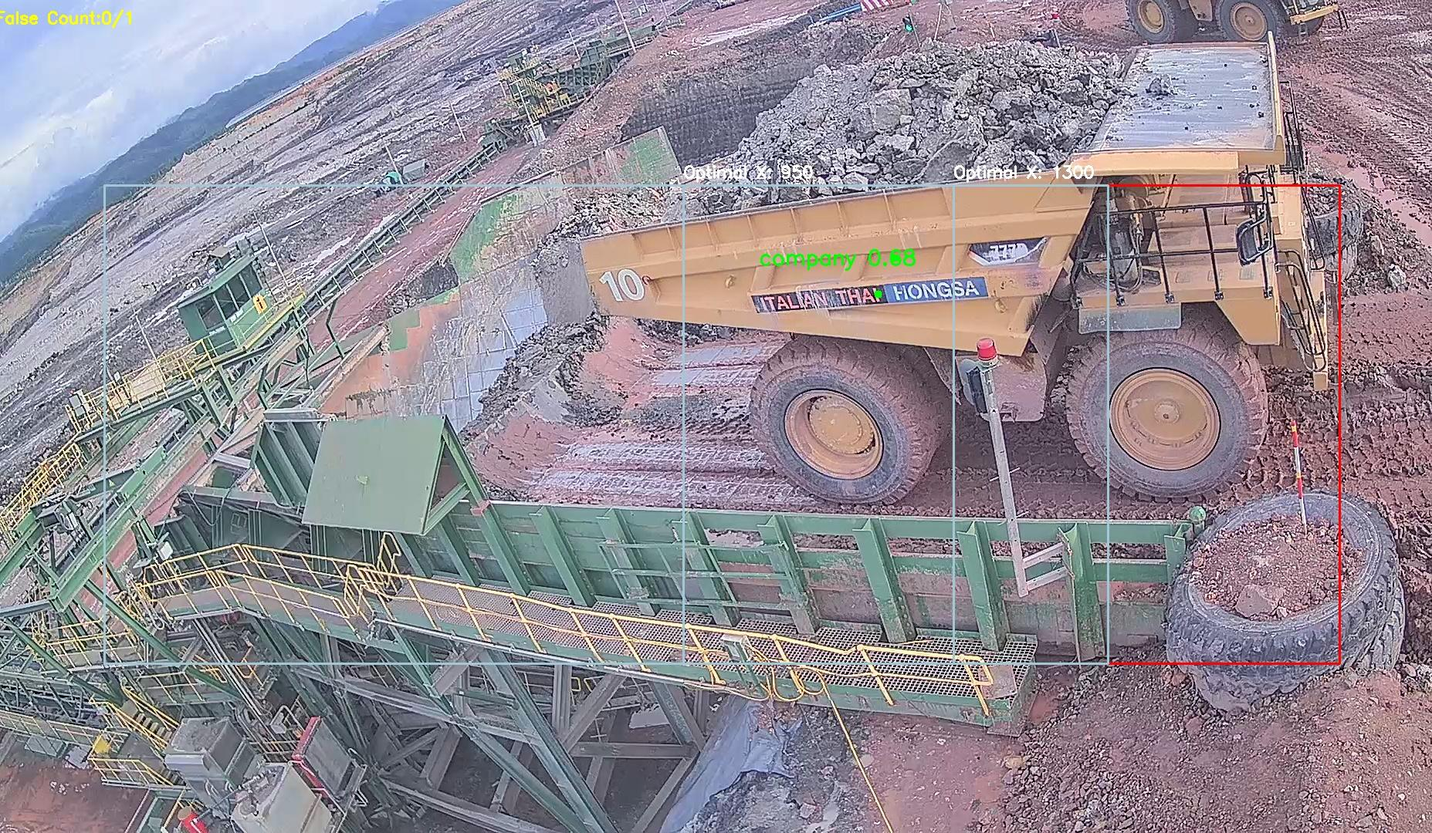company: (738, 269, 995, 322)
full_load: (770, 33, 1134, 204)
mining_truck: (572, 6, 1340, 501)
tail_number: (591, 256, 654, 314)
truck_size: (964, 232, 1051, 268)
